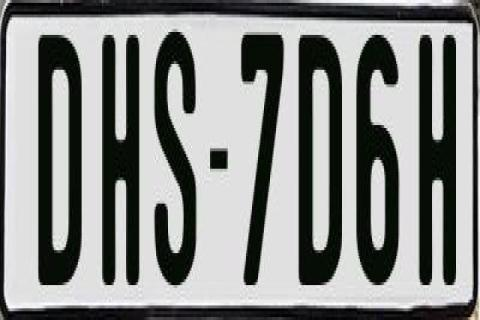0: (237, 35, 286, 297), (353, 29, 401, 285)
D: (299, 32, 347, 296), (36, 29, 80, 294)
H: (419, 32, 461, 291), (100, 32, 136, 291)
S: (152, 32, 202, 288)
